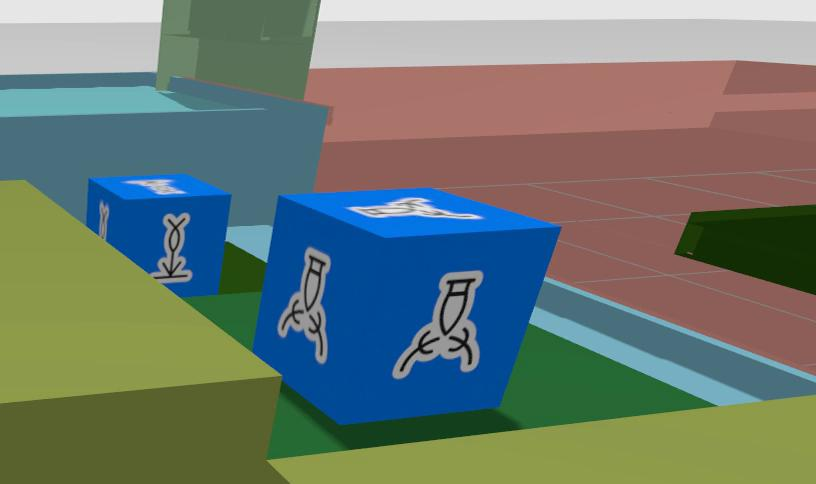KFS_REAL: (253, 185, 561, 425), (84, 169, 230, 299), (393, 272, 482, 378), (278, 248, 330, 363), (151, 213, 191, 283), (351, 197, 481, 217), (128, 179, 184, 193)
